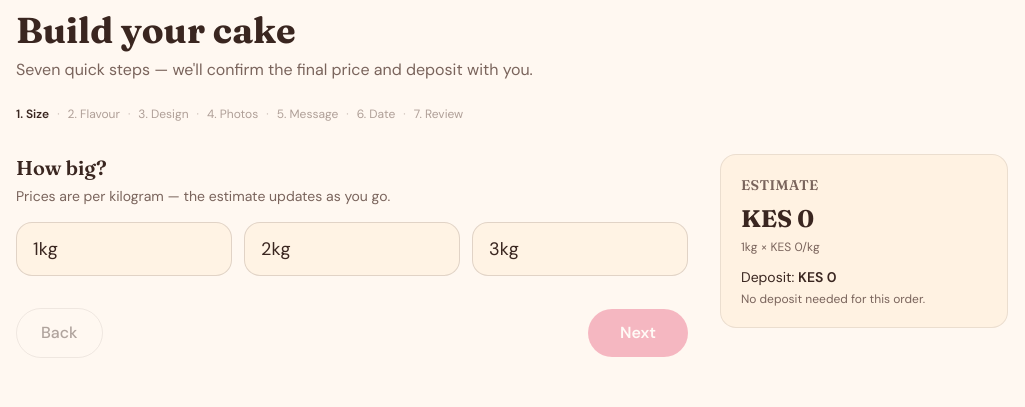
Test case: CakeBuilder › step 1: selecting a size sets the size and shows its kg
Click the button "2kg".
click(352, 249)  # box [244,222,460,276]
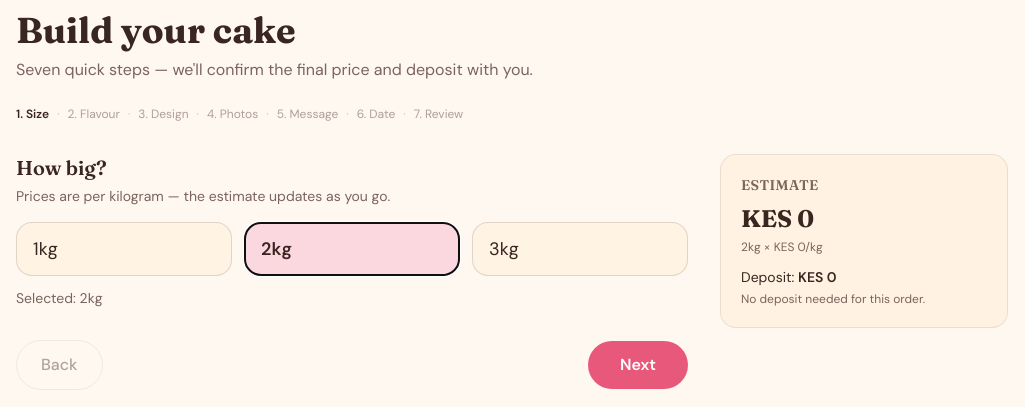
Expected: the text "Selected: 2kg" is shown, [16,289,102,307]
